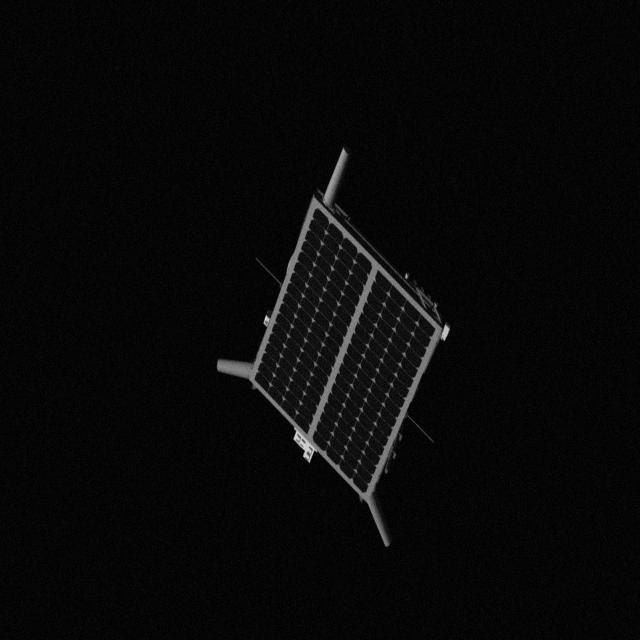satellite: (206, 138, 458, 550)
